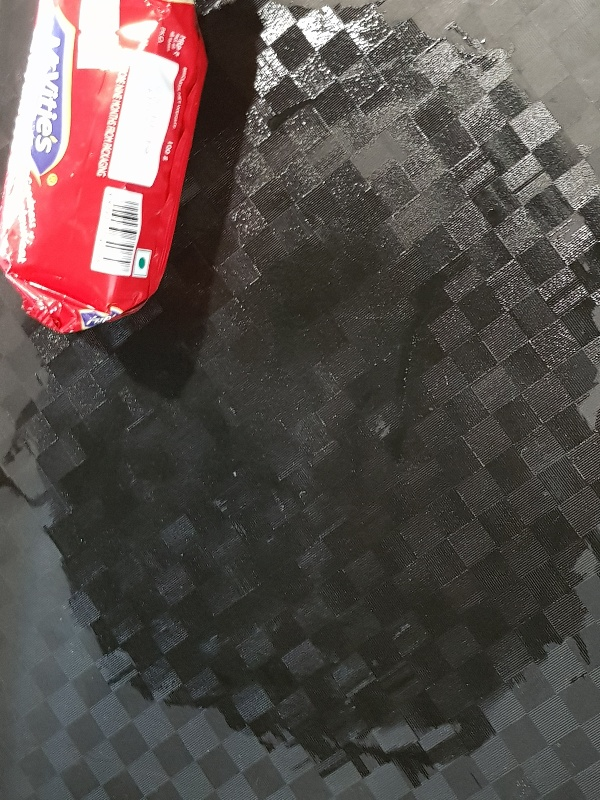Mcvitie's Digestive: (1, 1, 208, 334)
